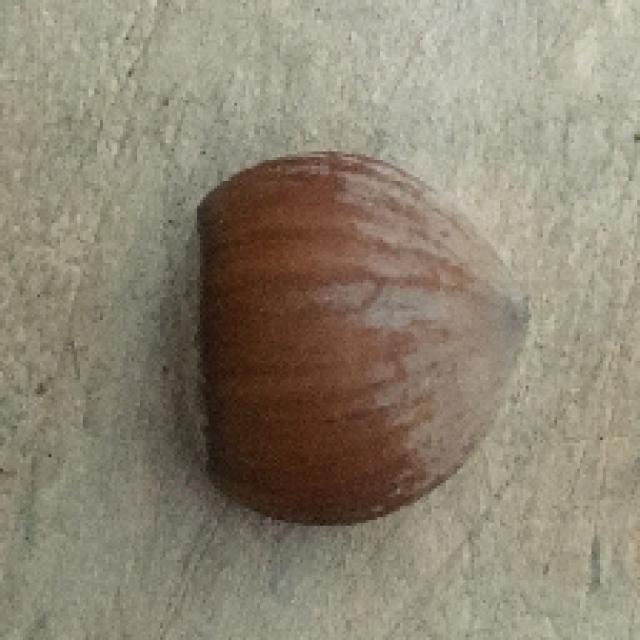QualityHazelnut: (154, 154, 532, 526)
